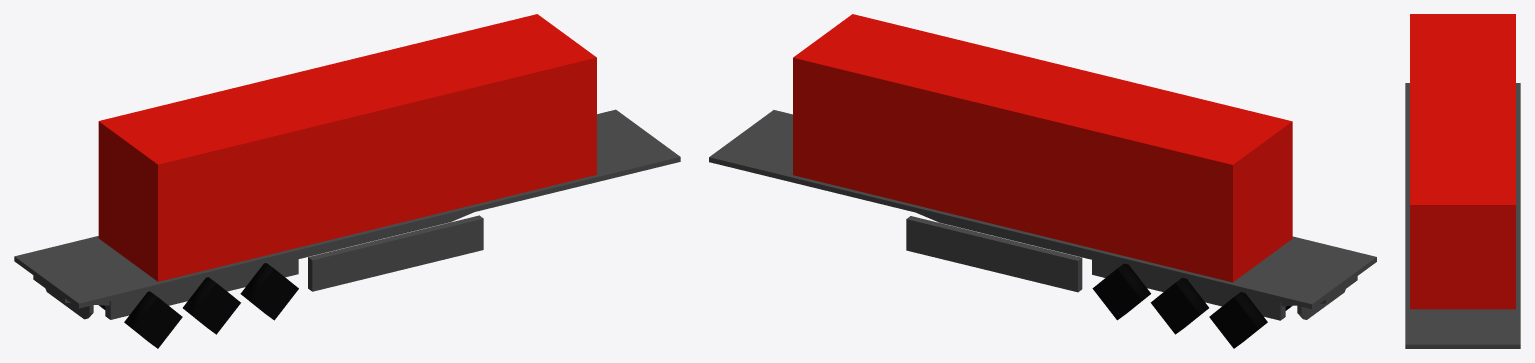
The model's file is Trailer.fbx.
3 renders of one model, left to right at view 1: azimuth 30°, elevation 25°; view 2: azimuth 150°, elevation 25°; view 3: azimuth 270°, elevation 25°, orthographic. The views are drawn at different scales.
Parts seen in each view (by area): view 1: Trailer_Cargo_01_Container_Red_LOD2; view 2: Trailer_Cargo_01_Container_Red_LOD2; view 3: Trailer_Cargo_01_Container_Red_LOD2.
Part boxes in pixels (x1,y1,x2,y2): Trailer_Cargo_01_Container_Red_LOD2: (14, 14, 680, 348); Trailer_Cargo_01_Container_Red_LOD2: (709, 14, 1376, 348); Trailer_Cargo_01_Container_Red_LOD2: (1405, 14, 1520, 348).
Size of the model in its own units: 1444 by 426 by 269.
